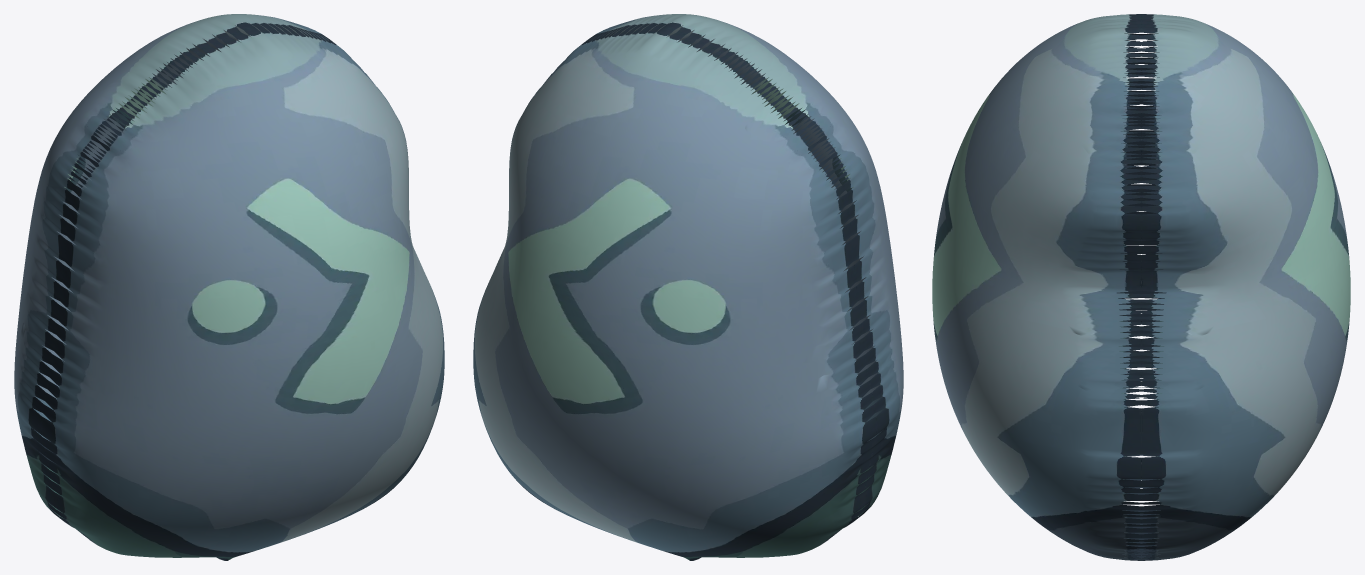
File: chevron_boulder.glb
3 views of the same model, side by side, from view 1: azimuth 30°, elevation 25°; view 2: azimuth 150°, elevation 25°; view 3: azimuth 270°, elevation 25° (orthographic).
Visible parts, largest first — view 1: chevron_boulder; view 2: chevron_boulder; view 3: chevron_boulder.
Part boxes in pixels (x1,y1,x2,y2): chevron_boulder: [14, 14, 444, 560]; chevron_boulder: [473, 14, 903, 560]; chevron_boulder: [932, 14, 1350, 560].
Size of the model in its own units: 0.9861 by 1.24 by 0.9446.
1 material, 1 textured.
